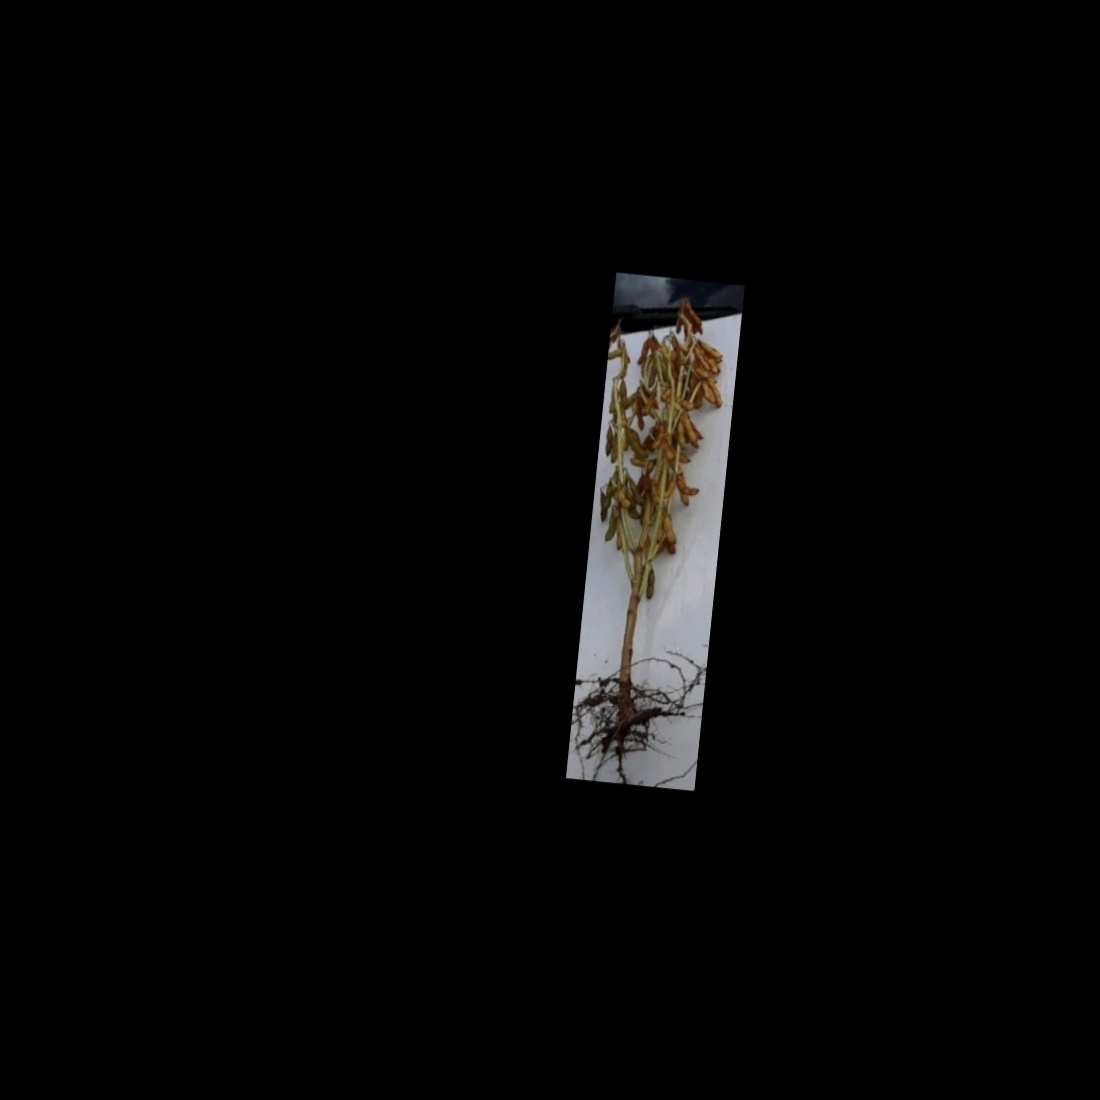pod: (618, 423, 654, 464), (681, 412, 705, 451), (656, 510, 678, 547), (672, 478, 704, 498), (708, 379, 725, 410), (695, 339, 726, 357), (644, 567, 658, 602)
soy: (569, 289, 738, 773)
